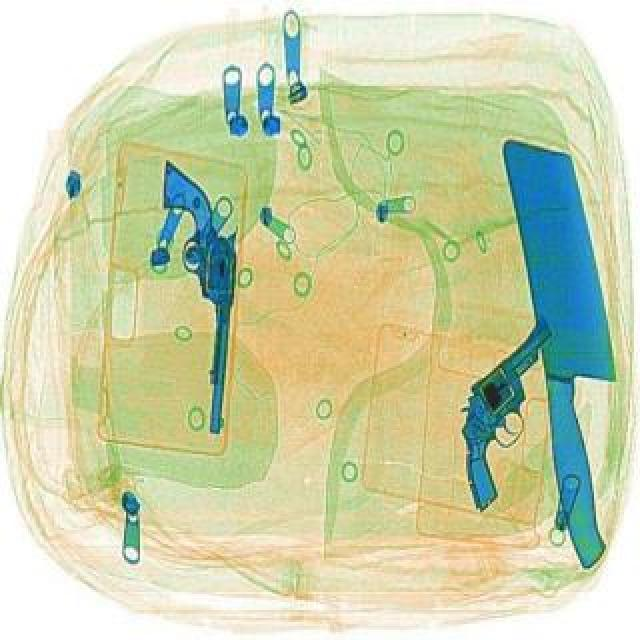gun: (404, 318, 622, 510), (140, 156, 244, 432)
knife: (500, 130, 638, 566)
